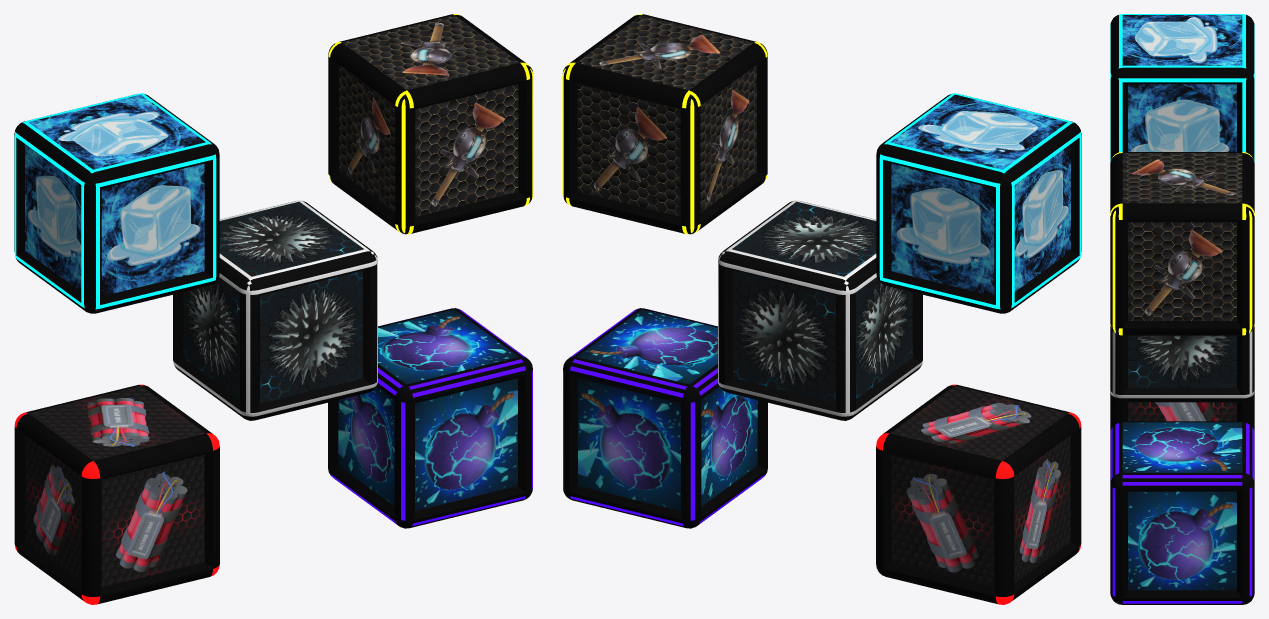
Rendered from BOMBS.fbx.
The picture shows the model from 3 angles, left to right: view 1: azimuth 30°, elevation 25°; view 2: azimuth 150°, elevation 25°; view 3: azimuth 270°, elevation 25°; orthographic projection. The views are drawn at different scales.
Visible parts, largest first — view 1: NORMAL BG.003, NORMAL BG.001, NORMAL BG.002, SPIKE BG, NORMAL BG, SPKIE, SPKIE.003, SPKIE.001, SPKIE.002, SPKIE.004; view 2: NORMAL BG.003, NORMAL BG.001, NORMAL BG.002, SPIKE BG, NORMAL BG, SPKIE, SPKIE.003, SPKIE.001, SPKIE.002, SPKIE.004; view 3: NORMAL BG.003, NORMAL BG, NORMAL BG.002, SPKIE.001, SPIKE BG, SPKIE.003, SPKIE.004, SPKIE, NORMAL BG.001, SPKIE.002.
Part boxes in pixels (x1,y1,x2,y2): NORMAL BG.003: (328,14,533,234); NORMAL BG.001: (14,384,219,604); NORMAL BG.002: (14,93,219,313); SPIKE BG: (173,200,377,420); NORMAL BG: (328,308,532,528); SPKIE: (187,215,356,384); SPKIE.003: (28,111,200,265); SPKIE.001: (346,316,514,490); SPKIE.002: (33,398,187,571); SPKIE.004: (348,22,504,206); NORMAL BG.003: (562,14,767,234); NORMAL BG.001: (876,384,1081,604); NORMAL BG.002: (876,93,1081,313); SPIKE BG: (718,200,922,420); NORMAL BG: (563,308,767,528); SPKIE: (739,215,907,385); SPKIE.003: (896,111,1068,264); SPKIE.001: (581,325,751,490); SPKIE.002: (906,402,1060,572); SPKIE.004: (593,34,749,201); NORMAL BG.003: (1110,152,1254,335); NORMAL BG: (1110,421,1254,604); NORMAL BG.002: (1110,14,1254,162); SPKIE.001: (1132,427,1232,582); SPIKE BG: (1110,325,1254,402); SPKIE.003: (1130,17,1229,151); SPKIE.004: (1132,159,1235,315); SPKIE: (1137,335,1230,379); NORMAL BG.001: (1110,391,1254,431); SPKIE.002: (1155,402,1219,421).
Size of the model in its own units: 660 by 612 by 200.
13 materials, 6 textured.
